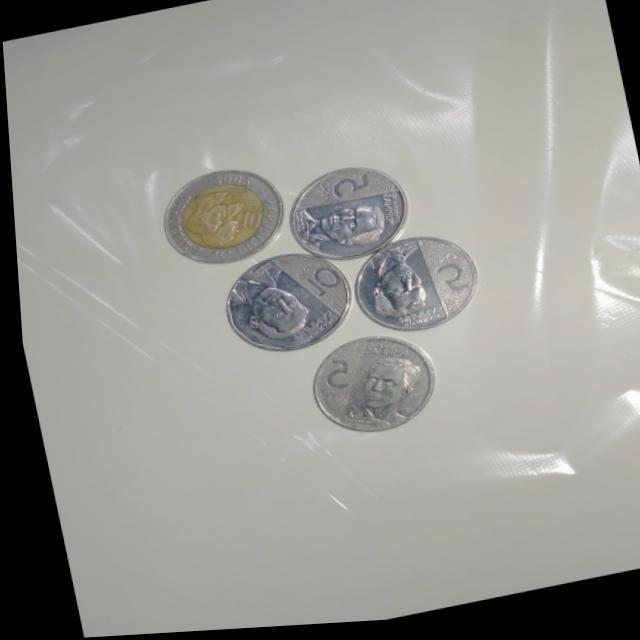10_New_Front: (227, 258, 344, 347)
10_Old_Front: (162, 164, 284, 267)
5_New_Front: (343, 236, 478, 338), (305, 337, 426, 435), (284, 165, 397, 263)
